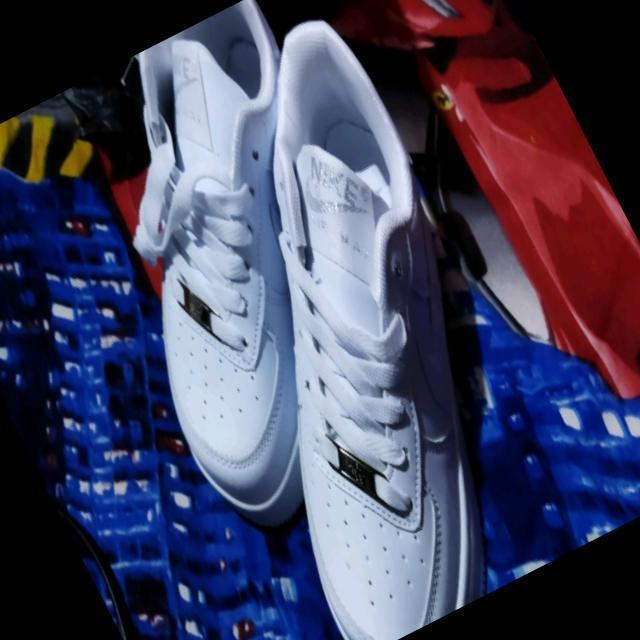nike fake air force: (82, 0, 637, 640), (13, 0, 476, 547)
